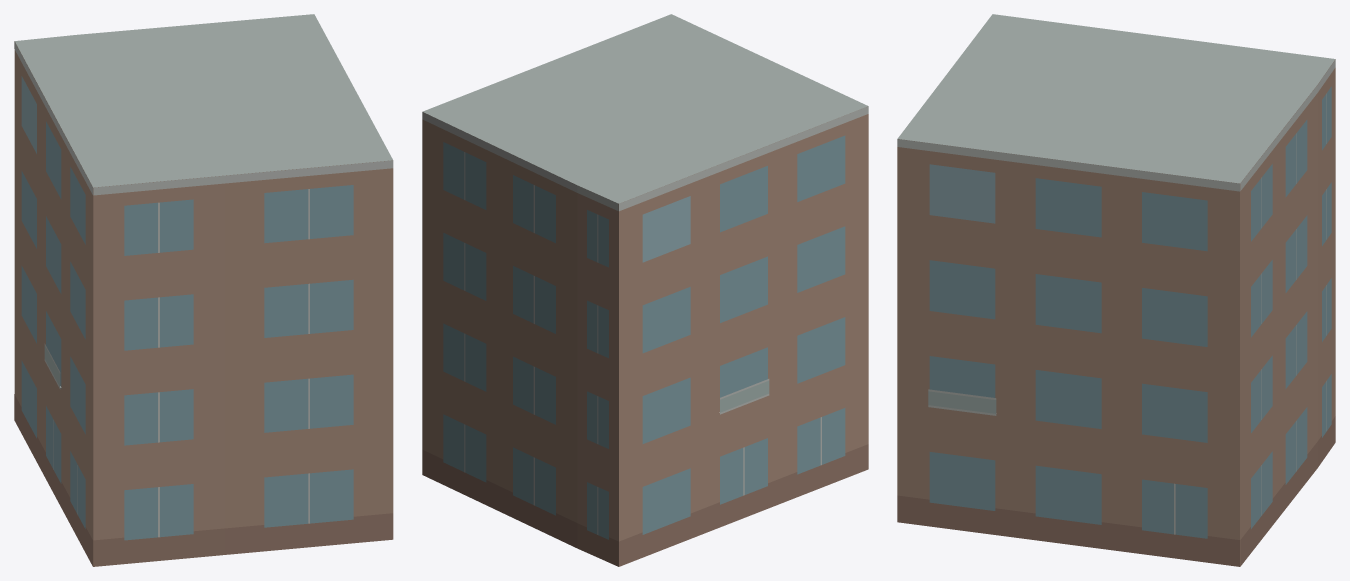
The model's file is survey-upis-32539114.glb.
The picture shows the model from 3 angles, left to right: view 1: azimuth 30°, elevation 25°; view 2: azimuth 150°, elevation 25°; view 3: azimuth 270°, elevation 25°; orthographic projection. The views are drawn at different scales.
Visible parts, largest first — view 1: survey-upis-32539114.tmp; view 2: survey-upis-32539114.tmp; view 3: survey-upis-32539114.tmp.
Boxes of the visible parts, x1,y1,x2,y2 form: survey-upis-32539114.tmp: [14, 14, 393, 566]; survey-upis-32539114.tmp: [422, 14, 868, 566]; survey-upis-32539114.tmp: [897, 14, 1335, 566].
Bounding box in the file's own units: 11.01 × 11.6 × 12.03.
